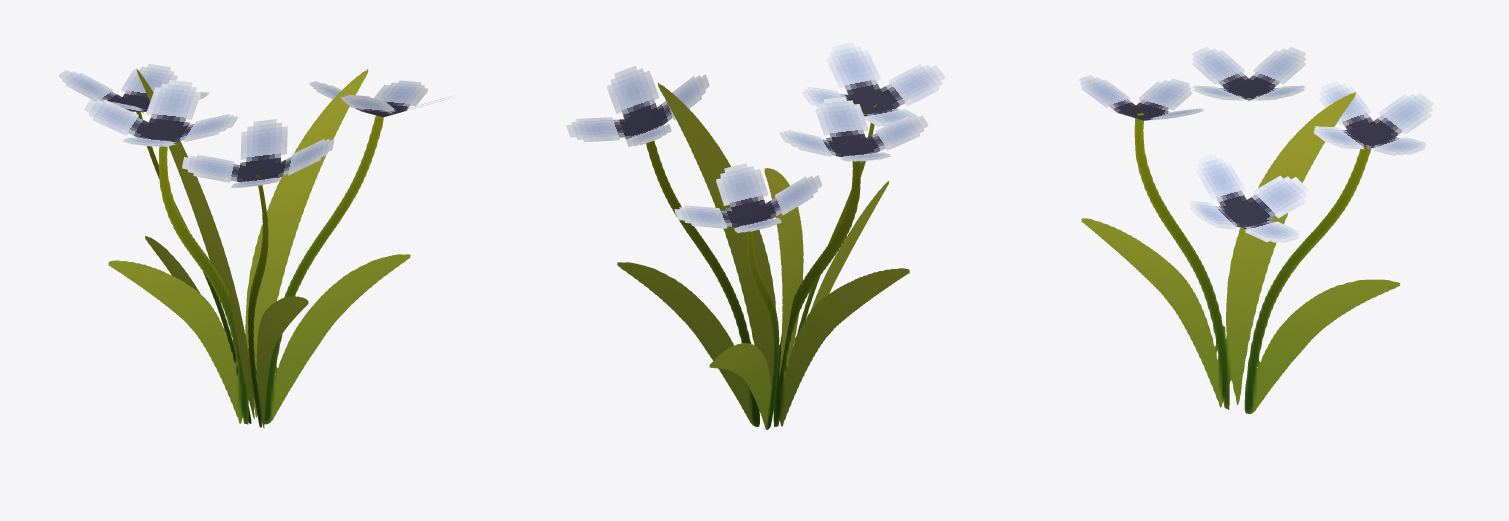
The model's file is flower.FBX.
3 views of the same model, side by side, from view 1: azimuth 30°, elevation 25°; view 2: azimuth 150°, elevation 25°; view 3: azimuth 270°, elevation 25° (orthographic). The views are drawn at different scales.
Visible parts, largest first — view 1: flower; view 2: flower; view 3: flower.
Part boxes in pixels (box(x1,y1,x2,y2)): flower: box(58, 64, 454, 428); flower: box(566, 42, 944, 429); flower: box(1079, 47, 1433, 413).
Size of the model in its own units: 0.6372 by 0.6288 by 0.4926.
